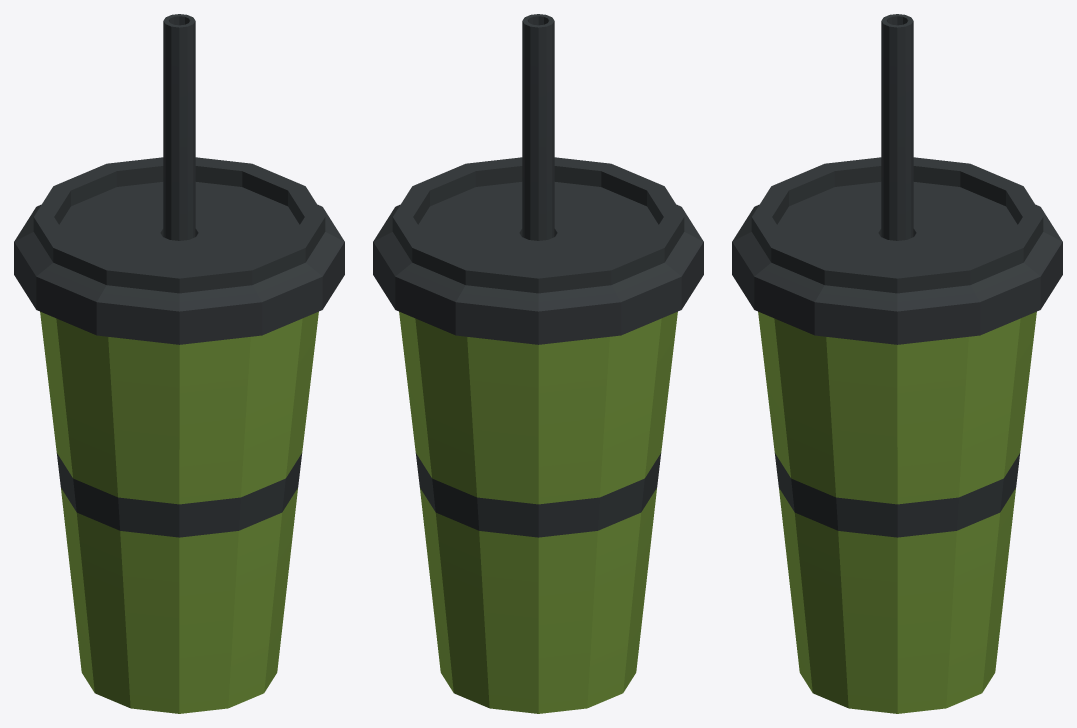
Rendered from Cup_04.fbx.
The picture shows the model from 3 angles, left to right: view 1: azimuth 30°, elevation 25°; view 2: azimuth 150°, elevation 25°; view 3: azimuth 270°, elevation 25°; orthographic projection.
Parts seen in each view (by area): view 1: Cup_04; view 2: Cup_04; view 3: Cup_04.
Part boxes in pixels (x1,y1,x2,y2): Cup_04: [14, 14, 344, 713]; Cup_04: [373, 14, 703, 713]; Cup_04: [732, 14, 1062, 713].
Bounding box in the file's own units: 0.1466 × 0.3188 × 0.1466.
